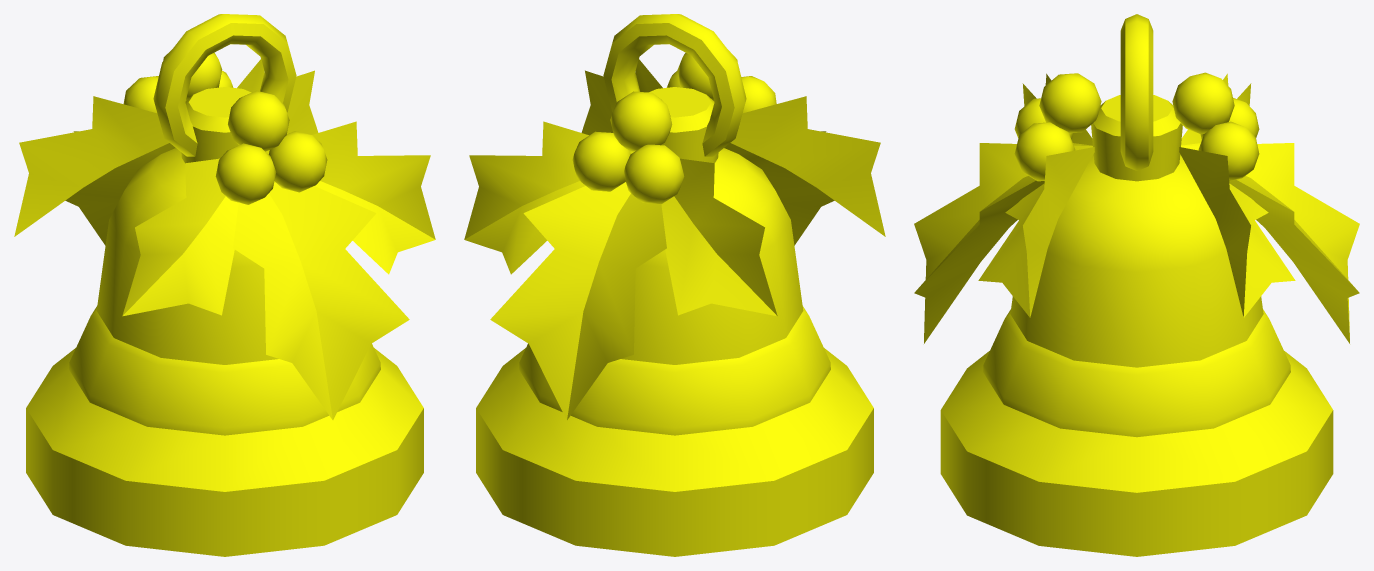
File: kaykit-bell-decorated.glb
3 renders of one model, left to right at view 1: azimuth 30°, elevation 25°; view 2: azimuth 150°, elevation 25°; view 3: azimuth 270°, elevation 25°, orthographic.
Parts seen in each view (by area): view 1: bell_decorated; view 2: bell_decorated; view 3: bell_decorated.
Boxes of the visible parts, x1,y1,x2,y2 form: bell_decorated: [14, 14, 435, 556]; bell_decorated: [464, 14, 885, 556]; bell_decorated: [914, 14, 1359, 556].
Bounding box in the file's own units: 0.806 × 1.1 × 0.9157.
